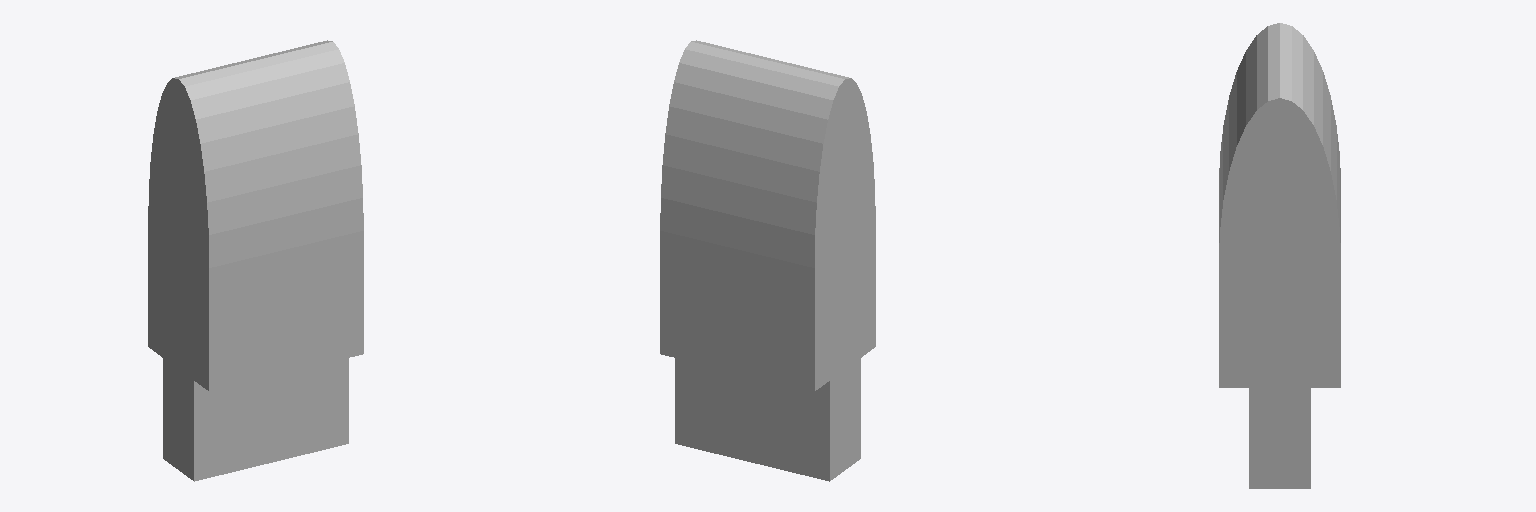
Rendered from body_l_distal_pinvround.obj.
The picture shows the model from 3 angles: view 1: azimuth 30°, elevation 25°; view 2: azimuth 150°, elevation 25°; view 3: azimuth 270°, elevation 25°; orthographic projection.
Parts seen in each view (by area): view 1: body_l_distal_pinvround_Cube.002; view 2: body_l_distal_pinvround_Cube.002; view 3: body_l_distal_pinvround_Cube.002.
Boxes of the visible parts, box(x1,y1,x2,y2) form: body_l_distal_pinvround_Cube.002: box(148, 40, 363, 481); body_l_distal_pinvround_Cube.002: box(660, 40, 875, 481); body_l_distal_pinvround_Cube.002: box(1219, 23, 1340, 488).
Size of the model in its own units: 0.032 by 0.0775 by 0.022.